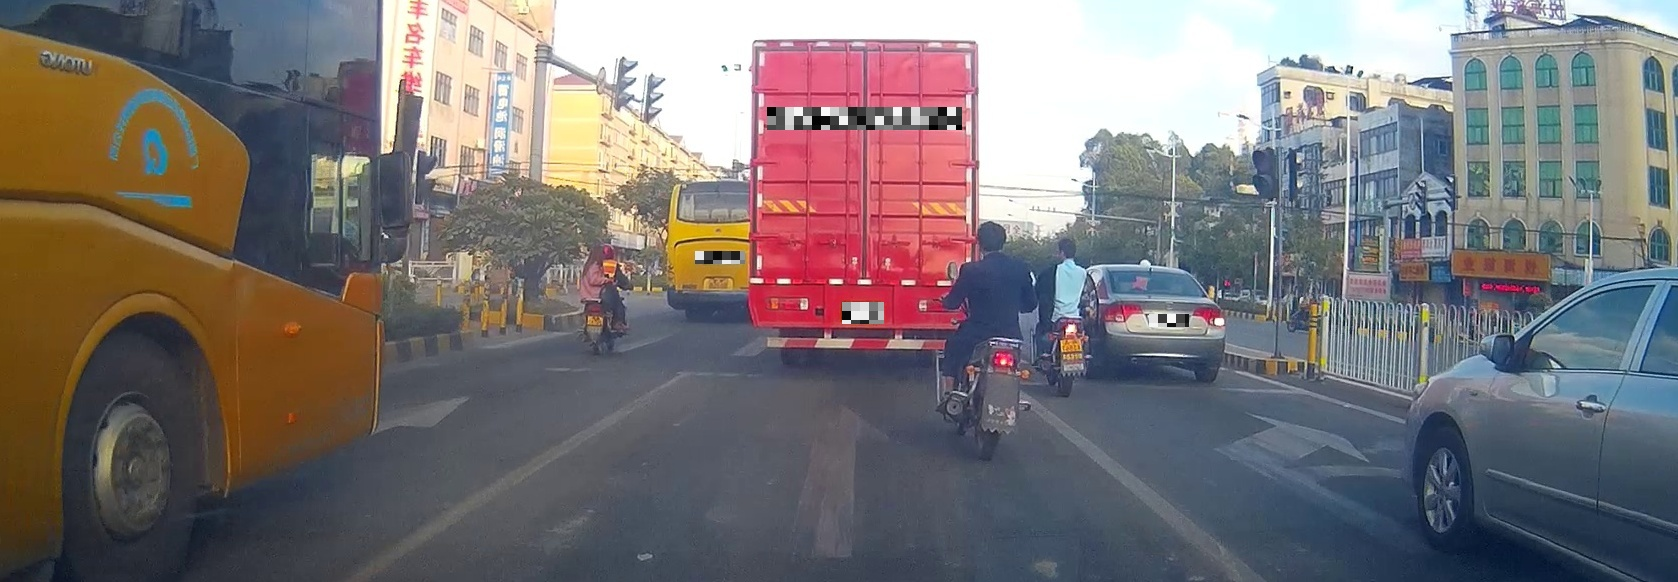L_light: (1103, 302, 1143, 322), (764, 296, 810, 311)
R_light: (1192, 306, 1226, 326), (917, 298, 963, 313)
T_light: (846, 45, 881, 57)
day-no: (749, 39, 979, 368), (1149, 289, 1170, 293)
day-right: (1102, 264, 1225, 381)
plate_1: (695, 251, 745, 264)
plate_2: (767, 107, 962, 131)
plate_3: (842, 302, 884, 324)
plate_4: (1149, 313, 1189, 327)
